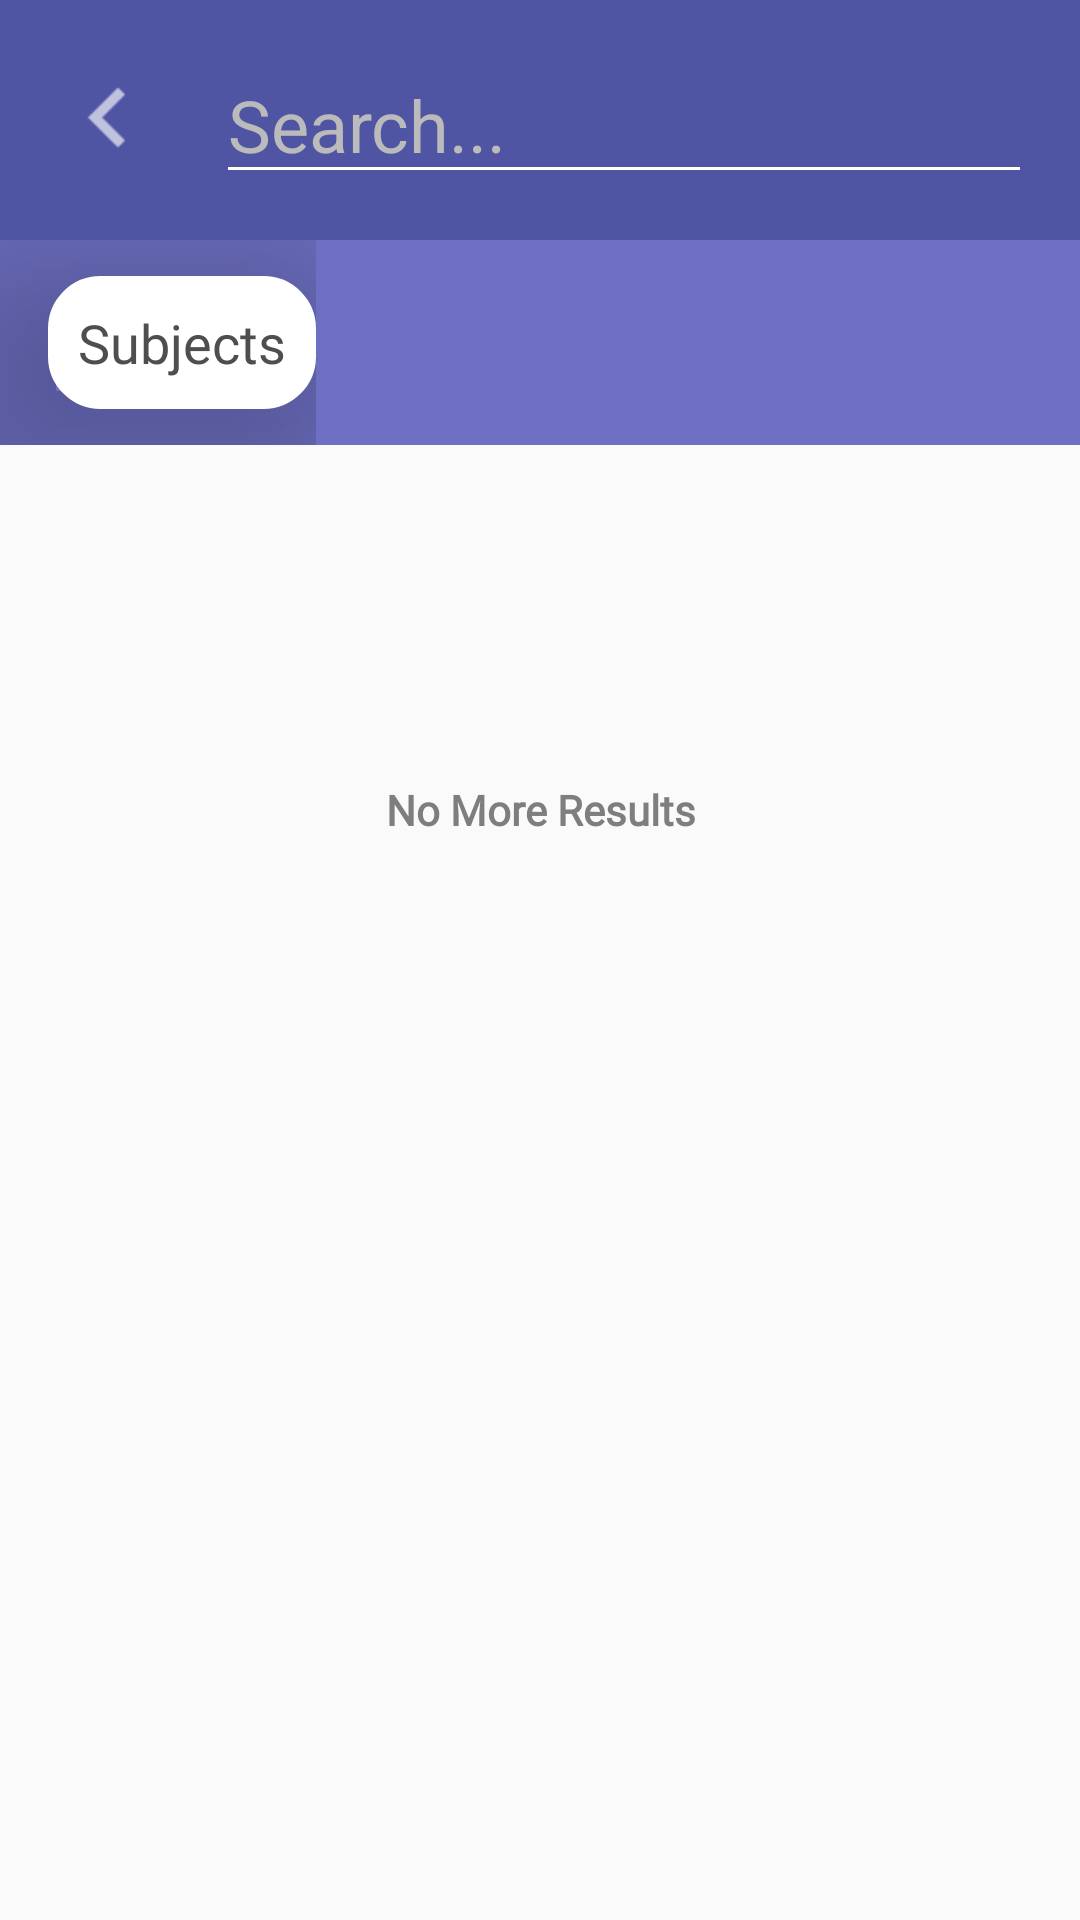

Named icons in this screenshot (1080x1920) and their bounding boxes, [x1=x1, y1=y1, x2=x2, y2=y2]:
arrow left: [x1=88, y1=88, x2=125, y2=147]
